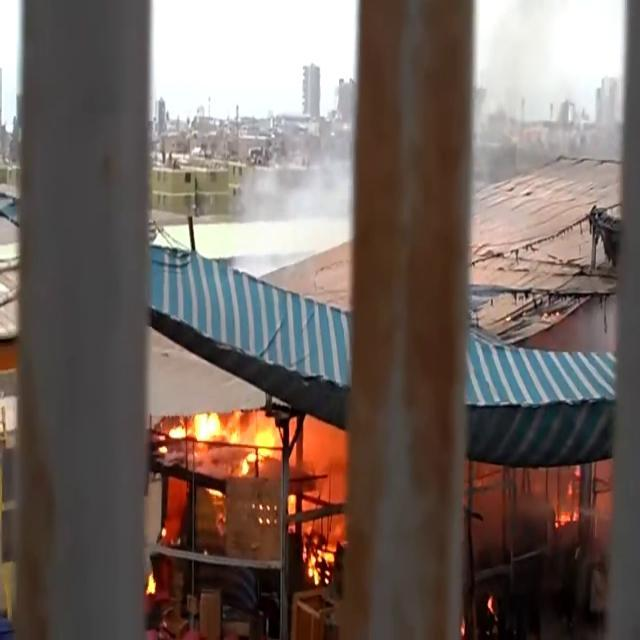Fire: (172, 401, 280, 469), (302, 528, 338, 588)
